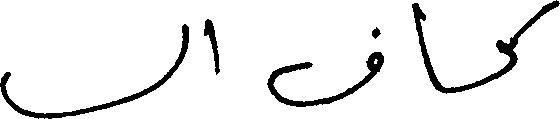X: (0, 19, 188, 118), (268, 22, 383, 111), (497, 0, 559, 83), (413, 0, 439, 95), (204, 14, 219, 79)
